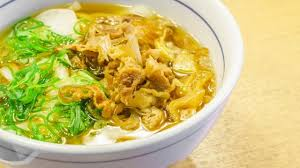soto: (2, 1, 262, 167)
